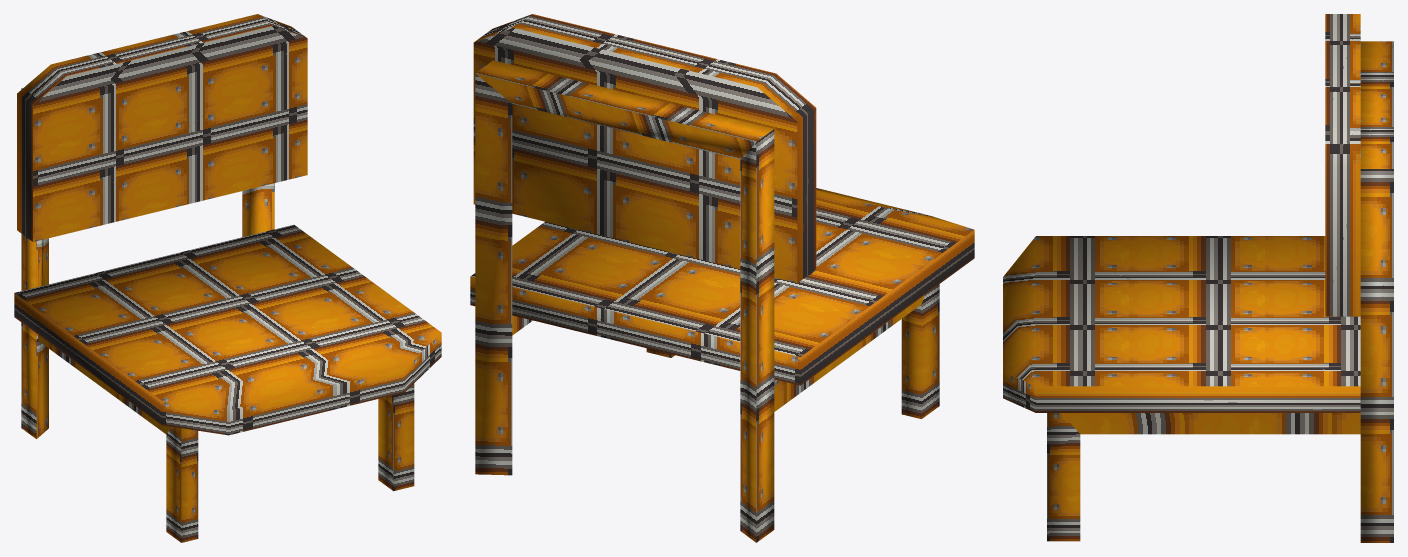
Rendered from 3457IMSL01_06.gltf.
The picture shows the model from 3 angles, left to right: view 1: azimuth 30°, elevation 25°; view 2: azimuth 150°, elevation 25°; view 3: azimuth 270°, elevation 25°; orthographic projection. The views are drawn at different scales.
Parts seen in each view (by area): view 1: 3457IMSL01_06; view 2: 3457IMSL01_06; view 3: 3457IMSL01_06.
Boxes of the visible parts, box(x1,y1,x2,y2) form: 3457IMSL01_06: box(14, 14, 441, 542); 3457IMSL01_06: box(470, 14, 974, 542); 3457IMSL01_06: box(1003, 14, 1393, 542).
Size of the model in its own units: 0.8481 by 1.08 by 0.9326.
1 material, 1 textured.
